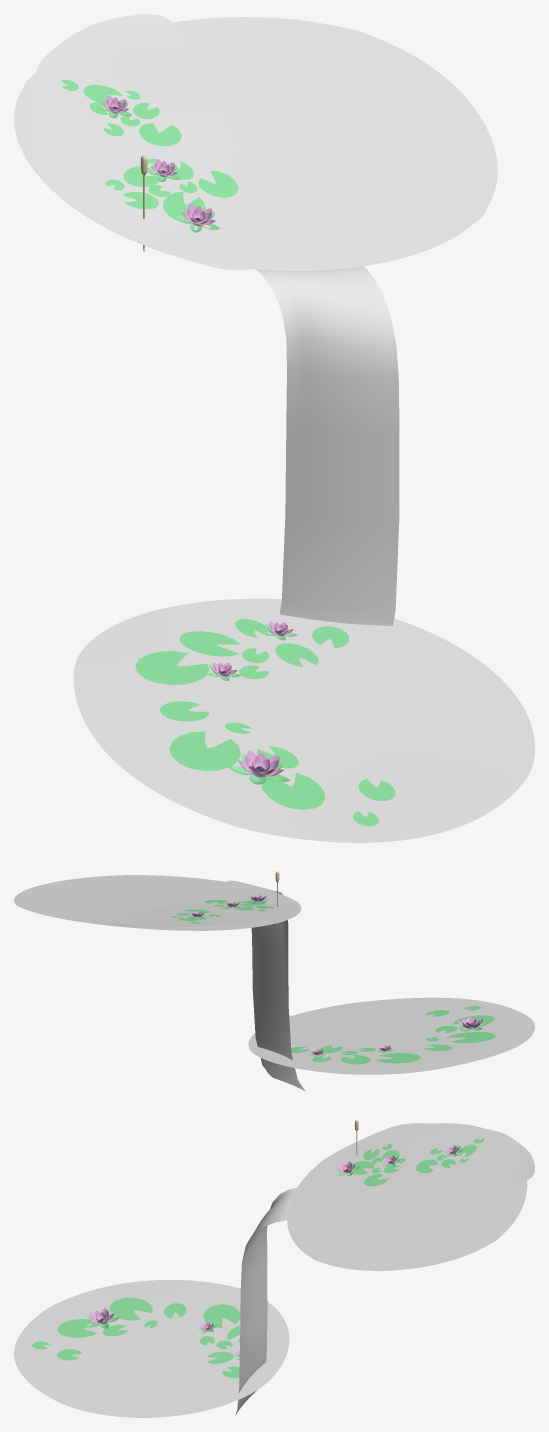
Rendered from Main Island2.fbx.
3 views of the same model, one above another, from view 1: azimuth 30°, elevation 25°; view 2: azimuth 150°, elevation 25°; view 3: azimuth 270°, elevation 25° (orthographic). The views are drawn at different scales.
Visible parts, largest first — view 1: Plane.009, Plane.008, Plane.010, Plane.004, Circle.076, Circle.079, Plane.007, Plane.003; view 2: Plane.009, Plane.008, Plane.010, Plane.004, Circle.076, Circle.079, Plane.007, Plane.003; view 3: Plane.009, Plane.008, Plane.004, Plane.010, Circle.076, Circle.079, Plane.007, Plane.003.
Boxes of the visible parts, bbox=[...] form: Plane.009: bbox=[73, 598, 534, 842]; Plane.008: bbox=[14, 17, 497, 270]; Plane.010: bbox=[256, 266, 399, 625]; Plane.004: bbox=[30, 14, 251, 270]; Circle.076: bbox=[135, 619, 395, 826]; Circle.079: bbox=[61, 80, 238, 221]; Plane.007: bbox=[207, 621, 297, 784]; Plane.003: bbox=[96, 95, 219, 232]; Plane.009: bbox=[248, 997, 534, 1074]; Plane.008: bbox=[14, 875, 301, 930]; Plane.010: bbox=[226, 880, 305, 1091]; Plane.004: bbox=[91, 903, 299, 927]; Circle.076: bbox=[291, 1006, 495, 1064]; Circle.079: bbox=[171, 900, 273, 923]; Plane.007: bbox=[307, 1017, 487, 1056]; Plane.003: bbox=[186, 894, 269, 918]; Plane.009: bbox=[14, 1280, 289, 1417]; Plane.008: bbox=[287, 1123, 527, 1270]; Plane.004: bbox=[334, 1123, 534, 1191]; Plane.010: bbox=[235, 1187, 296, 1415]; Circle.076: bbox=[32, 1297, 240, 1377]; Circle.079: bbox=[350, 1138, 484, 1186]; Plane.007: bbox=[86, 1308, 239, 1359]; Plane.003: bbox=[336, 1145, 462, 1176].
Size of the model in its own units: 2.13 by 1.59 by 2.84.
